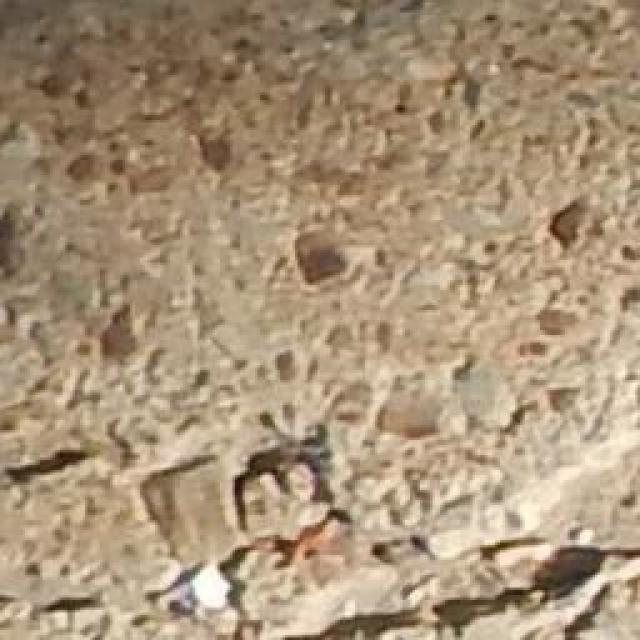concrete-crack: (142, 411, 346, 640), (279, 533, 640, 640)
